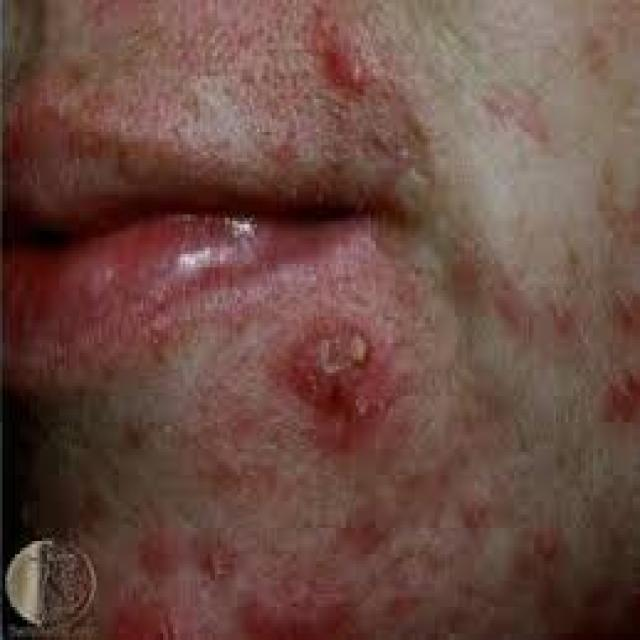Acne: (277, 310, 391, 460), (236, 572, 360, 640), (96, 587, 187, 640), (316, 37, 372, 102), (595, 358, 640, 436), (334, 497, 388, 561), (190, 525, 240, 589), (524, 512, 571, 578), (603, 274, 640, 343), (457, 487, 492, 543)
